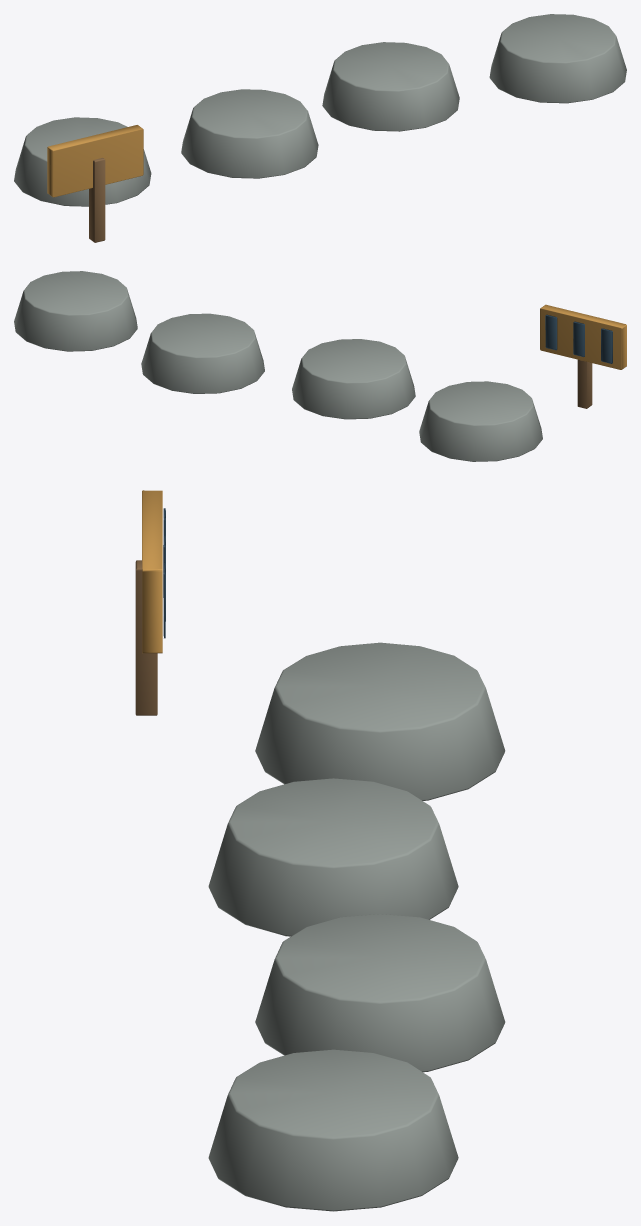
Rendered from stepstones_stage2.glb.
3 views of the same model, one above another, from view 1: azimuth 30°, elevation 25°; view 2: azimuth 150°, elevation 25°; view 3: azimuth 270°, elevation 25° (orthographic). The views are drawn at different scales.
Bounding box in the file's own units: 4.41 × 0.69 × 1.27.
